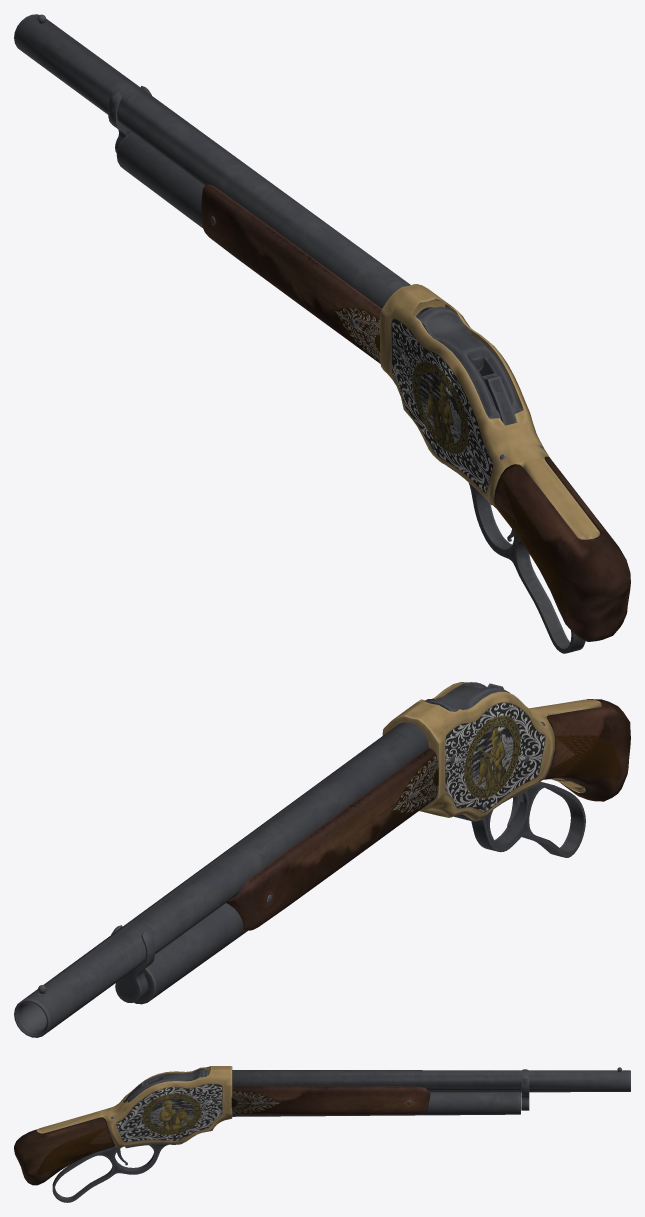
Rendered from m1887-short.glb.
3 views of the same model, one above another, from view 1: azimuth 30°, elevation 25°; view 2: azimuth 150°, elevation 25°; view 3: azimuth 270°, elevation 25° (orthographic). The views are drawn at different scales.
Parts seen in each view (by area): view 1: S_Stock_low, S_Lever_Low; view 2: S_Stock_low, S_Lever_Low; view 3: S_Stock_low, S_Lever_Low.
Part boxes in pixels (x1,y1,x2,y2): S_Stock_low: (14,14,630,641); S_Lever_Low: (417,306,585,653); S_Stock_low: (14,682,630,1037); S_Lever_Low: (424,682,585,857); S_Stock_low: (14,1066,630,1185); S_Lever_Low: (52,1068,208,1202).
Size of the model in its own units: 0.0584 by 0.2386 by 0.9999.
Materials: 1 (1 with a texture image).
